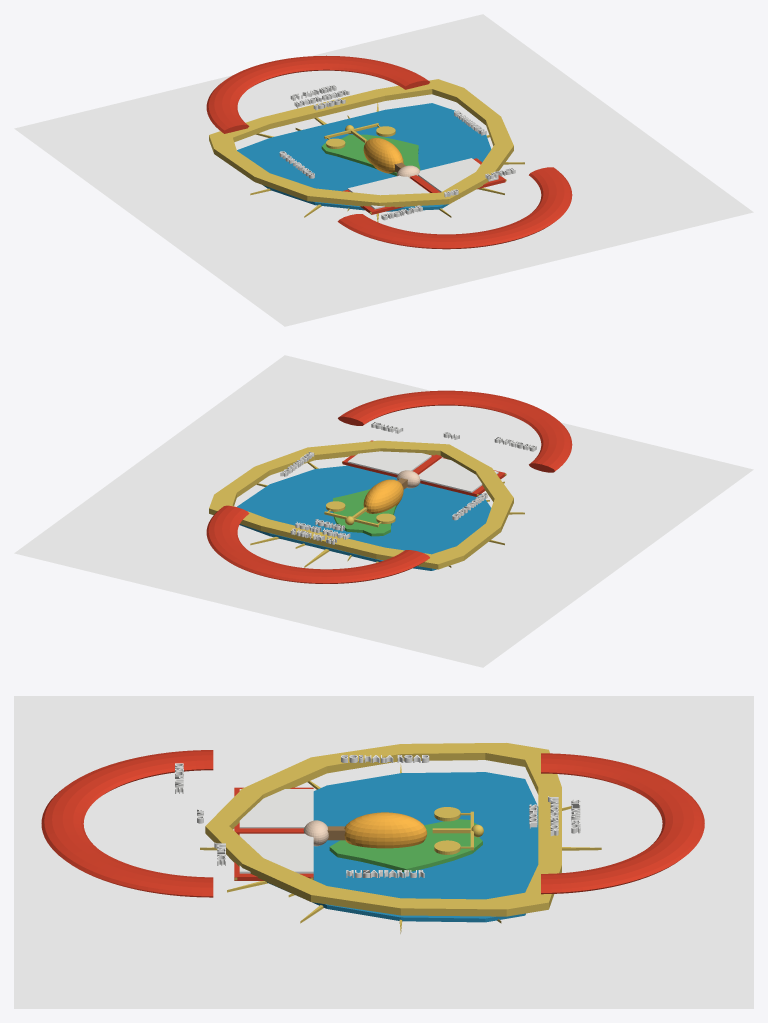
The model's file is crest_blender.glb.
3 views of the same model, one above another, from view 1: azimuth 30°, elevation 25°; view 2: azimuth 150°, elevation 25°; view 3: azimuth 270°, elevation 25° (orthographic). The views are drawn at different scales.
Visible parts, largest first — view 1: Backplate, ShieldBlueField, ShieldGoldFrame, BottomBanner, TopBanner, IndiaMap, BookPageRight, BookPageLeft, TorchFlame; view 2: Backplate, ShieldBlueField, ShieldGoldFrame, BottomBanner, TopBanner, IndiaMap, BookPageLeft, BookPageRight, TorchFlame, BookCover; view 3: Backplate, ShieldBlueField, ShieldGoldFrame, BottomBanner, TopBanner, IndiaMap, TorchFlame, BookPageLeft, BookPageRight, SideTextLeft, SideTextRight.
Part boxes in pixels (x1,y1,x2,y2): Backplate: (14,14,753,326); ShieldBlueField: (237,103,491,211); ShieldGoldFrame: (209,79,513,207); BottomBanner: (337,167,572,249); TopBanner: (206,55,429,133); IndiaMap: (321,134,420,175); BookPageRight: (418,158,498,192); BookPageLeft: (347,175,429,209); TorchFlame: (363,138,403,173); Backplate: (14,355,753,667); ShieldBlueField: (237,465,491,570); ShieldGoldFrame: (209,440,513,569); BottomBanner: (338,390,572,472); TopBanner: (206,505,429,583); IndiaMap: (333,489,396,536); BookPageLeft: (419,458,498,492); BookPageRight: (347,451,431,474); TorchFlame: (363,479,403,513); BookCover: (342,440,505,496); Backplate: (14,696,753,1008); ShieldBlueField: (267,772,538,922); ShieldGoldFrame: (205,743,561,916); BottomBanner: (41,750,213,897); TopBanner: (541,753,704,894); IndiaMap: (329,819,482,872); TorchFlame: (344,812,427,848); BookPageLeft: (239,789,313,828); BookPageRight: (239,833,313,873); SideTextLeft: (341,755,429,762); SideTextRight: (346,870,424,877).
Size of the model in its own units: 14 by 0.8 by 14.
